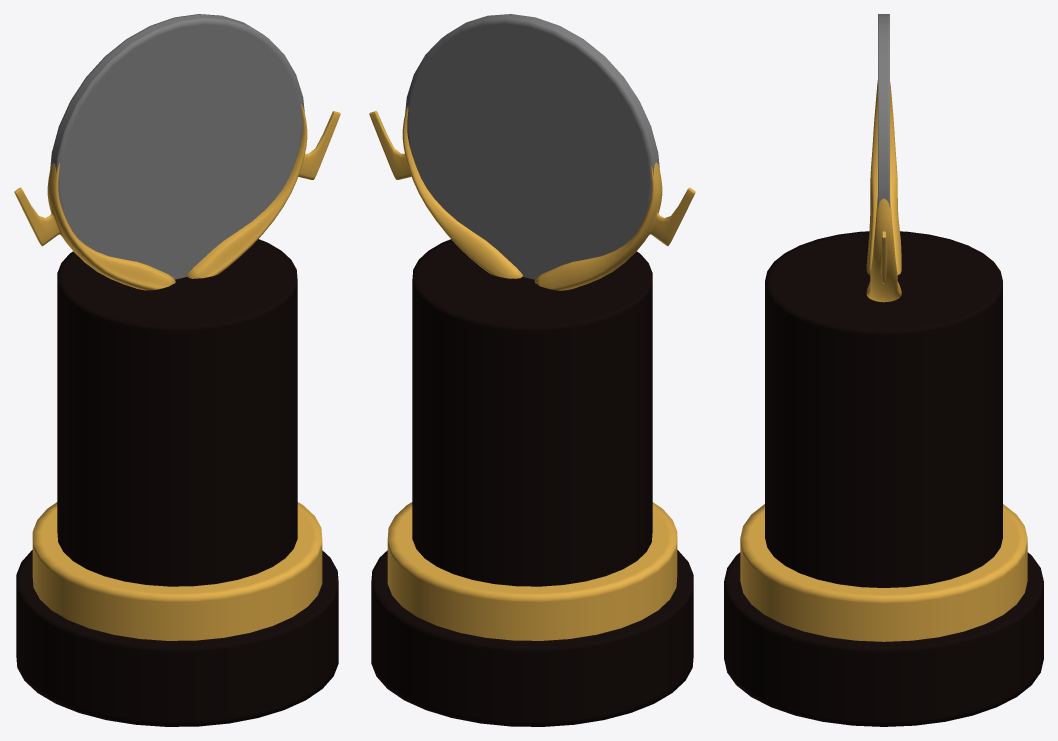
File: mirror_movement_blenderPLSworkGod_help_me.fbx
The picture shows the model from 3 angles, left to right: view 1: azimuth 30°, elevation 25°; view 2: azimuth 150°, elevation 25°; view 3: azimuth 270°, elevation 25°; orthographic projection.
Visible parts, largest first — view 1: base long, mirror, base 1, base 2, mirror handle.001; view 2: base long, mirror, base 1, base 2, mirror handle.001; view 3: base long, base 1, base 2, mirror handle.001, mirror.
Part boxes in pixels (x1=…): base long: x1=57, y1=239, x2=297, y2=586; mirror: x1=50, y1=14, x2=304, y2=279; base 1: x1=16, y1=550, x2=338, y2=726; base 2: x1=32, y1=502, x2=322, y2=640; mirror handle.001: x1=14, y1=104, x2=340, y2=290; base long: x1=412, y1=239, x2=652, y2=586; mirror: x1=405, y1=14, x2=659, y2=279; base 1: x1=371, y1=550, x2=693, y2=726; base 2: x1=387, y1=502, x2=677, y2=640; mirror handle.001: x1=369, y1=106, x2=695, y2=290; base long: x1=765, y1=231, x2=1002, y2=587; base 1: x1=724, y1=552, x2=1043, y2=726; base 2: x1=740, y1=504, x2=1027, y2=641; mirror handle.001: x1=866, y1=80, x2=901, y2=302; mirror: x1=878, y1=14, x2=889, y2=207.
Bounding box in the file's own units: 180 × 155 × 338.
